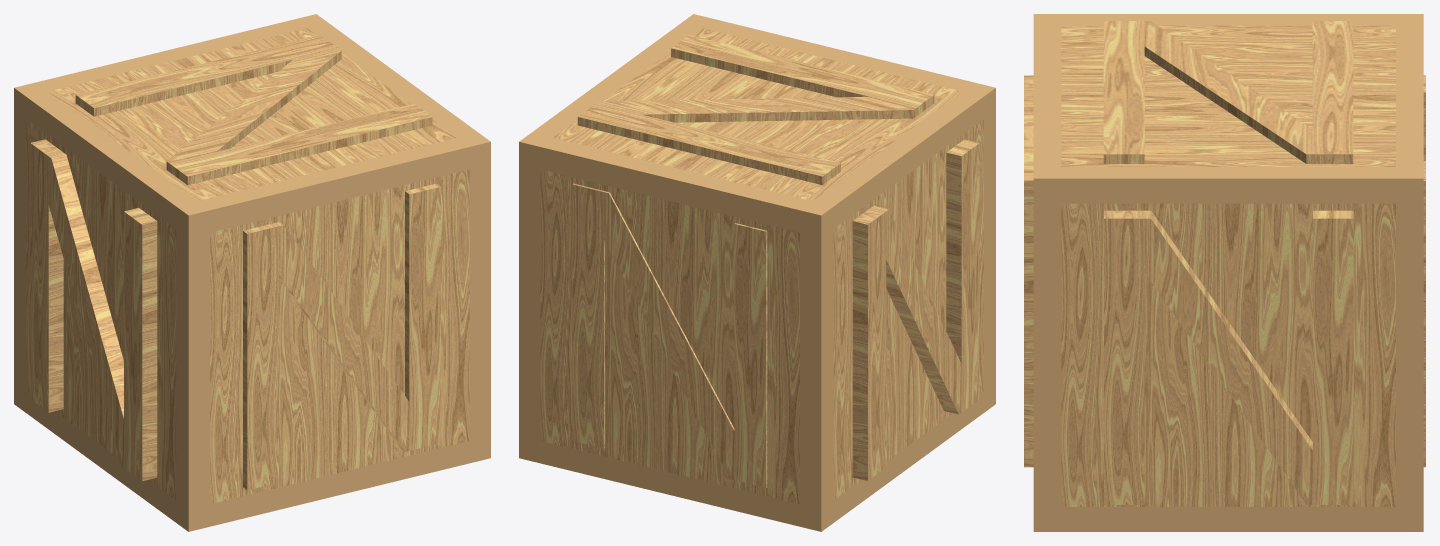
File: block-n.fbx
3 views of the same model, side by side, from view 1: azimuth 30°, elevation 25°; view 2: azimuth 150°, elevation 25°; view 3: azimuth 270°, elevation 25° (orthographic). The views are drawn at different scales.
Visible parts, largest first — view 1: Box, FRONT, LEFT, TOP; view 2: Box, BACK, LEFT, TOP; view 3: Box, RIGHT, TOP, FRONT, BACK.
Part boxes in pixels (left/top/right/bottom): Box: left=14, top=14, right=490, bottom=531; FRONT: left=243, top=183, right=440, bottom=490; LEFT: left=30, top=139, right=157, bottom=481; TOP: left=75, top=35, right=432, bottom=185; Box: left=519, top=14, right=995, bottom=531; BACK: left=572, top=183, right=767, bottom=487; LEFT: left=852, top=139, right=979, bottom=480; TOP: left=577, top=35, right=934, bottom=184; Box: left=1033, top=14, right=1423, bottom=531; RIGHT: left=1104, top=210, right=1353, bottom=504; TOP: left=1103, top=21, right=1353, bottom=163; FRONT: left=1024, top=75, right=1033, bottom=467; BACK: left=1423, top=75, right=1425, bottom=467.
Size of the model in its own units: 1.1 by 1.04 by 1.03.
2 materials, 2 textured.
